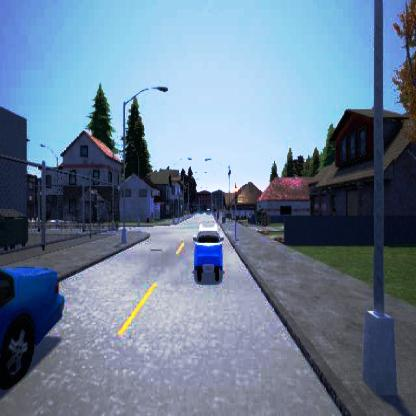vehicle: (0, 266, 64, 389), (192, 233, 223, 280)
